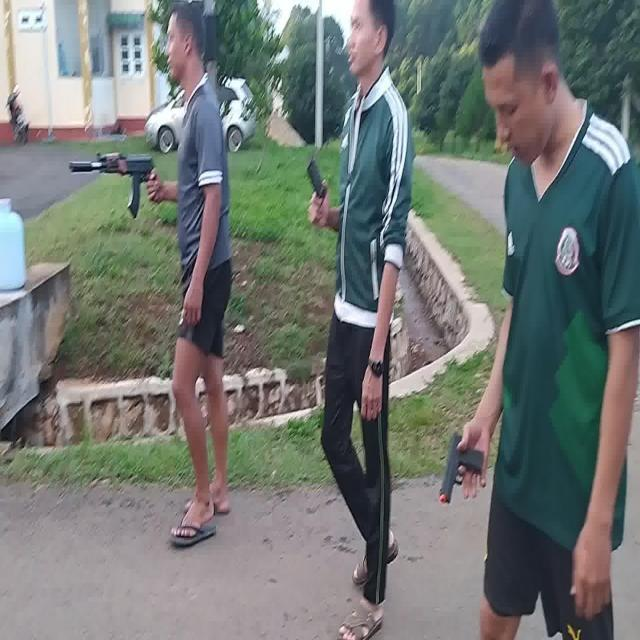gun: (69, 154, 157, 220), (440, 436, 484, 504)
